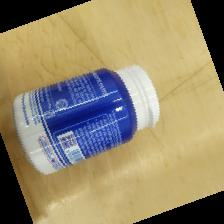Xylitol_blue: (12, 64, 162, 177)
